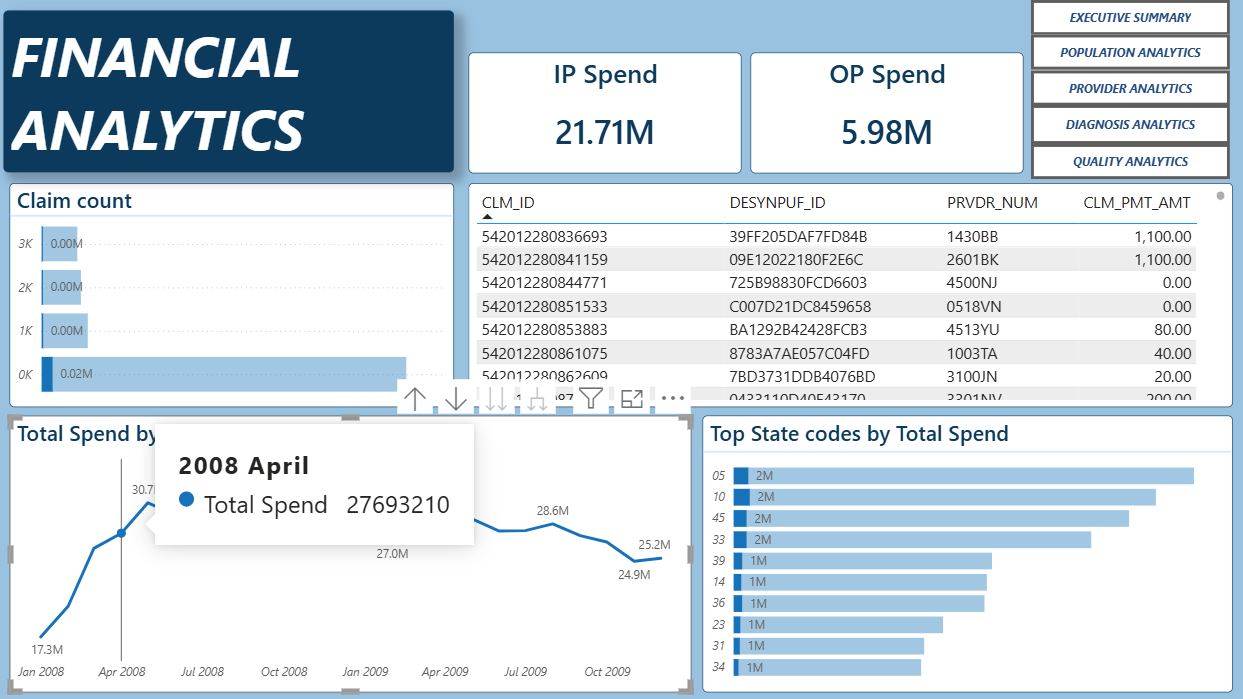

The dashboard page shown, as its layout file describes it:
{"tool":"powerbi","page":{"name":"Financial Analytics","canvas":[1280,720],"ordinal":5},"visuals":[{"type":"lineChart","fields":{"Y":["Measures_Healthcare.Total Spend"],"Category":["Dim_Date.FullDate.Variation.Date Hierarchy.Year","Dim_Date.FullDate.Variation.Date Hierarchy.Month"]},"box":[14,426,700,284],"z":0},{"type":"clusteredBarChart","title":"Claim count ","fields":{"Category":["Fact_Outpatient_Claims.CLM_PMT_AMT (bins)"],"Y":["Measures_Healthcare.Claim count"]},"box":[14,188,456,230],"z":1000},{"type":"tableEx","fields":{"Values":["Fact_Outpatient_Claims.CLM_ID","Fact_Outpatient_Claims.DESYNPUF_ID","Fact_Outpatient_Claims.PRVDR_NUM","Fact_Outpatient_Claims.CLM_PMT_AMT"]},"box":[484,188,784,230],"z":2000},{"type":"clusteredBarChart","title":"Top State codes by Total Spend","fields":{"Category":["Dim_Beneficiary.SP_STATE_CODE"],"Y":["Measures_Healthcare.Total Spend"]},"box":[724,426,544,284],"z":3000},{"type":"textbox","box":[8,10,462,166],"z":7000},{"type":"cardVisual","title":"IP Spend","fields":{"Data":["Measures_Healthcare.Inpatient Spend"]},"box":[484,54,280,124],"z":8000},{"type":"cardVisual","title":"OP Spend","fields":{"Data":["Measures_Healthcare.Outpatient"]},"box":[774,54,280,124],"z":9000},{"type":"actionButton","box":[1062,0,204,36],"z":10000},{"type":"actionButton","box":[1062,36,204,36],"z":11000},{"type":"actionButton","box":[1062,72,204,36],"z":12000},{"type":"actionButton","box":[1062,108,204,40],"z":13000},{"type":"actionButton","box":[1062,148,204,36],"z":14000},{"type":"shape","box":[14,212,456,18],"z":15000},{"type":"shape","box":[14,456,700,16],"z":16000},{"type":"shape","box":[724,456,542,16],"z":17000}]}

Visuals, with their boxes in screenshot pixels (x1, y1, x2, y2), scaled from the page's 1280x720 canvas onto the 1243x699 screenshot:
lineChart - Measures_Healthcare.Total Spend x Dim_Date.FullDate.Variation.Date Hierarchy.Year: 14:414:693:689
"Claim count " clusteredBarChart: 14:183:456:406
tableEx - Fact_Outpatient_Claims.CLM_ID x Fact_Outpatient_Claims.DESYNPUF_ID: 470:183:1231:406
"Top State codes by Total Spend" clusteredBarChart: 703:414:1231:689
textbox: 8:10:456:171
"IP Spend" cardVisual: 470:52:742:173
"OP Spend" cardVisual: 752:52:1024:173
actionButton: 1031:0:1229:35
actionButton: 1031:35:1229:70
actionButton: 1031:70:1229:105
actionButton: 1031:105:1229:144
actionButton: 1031:144:1229:179
shape: 14:206:456:223
shape: 14:443:693:458
shape: 703:443:1229:458
